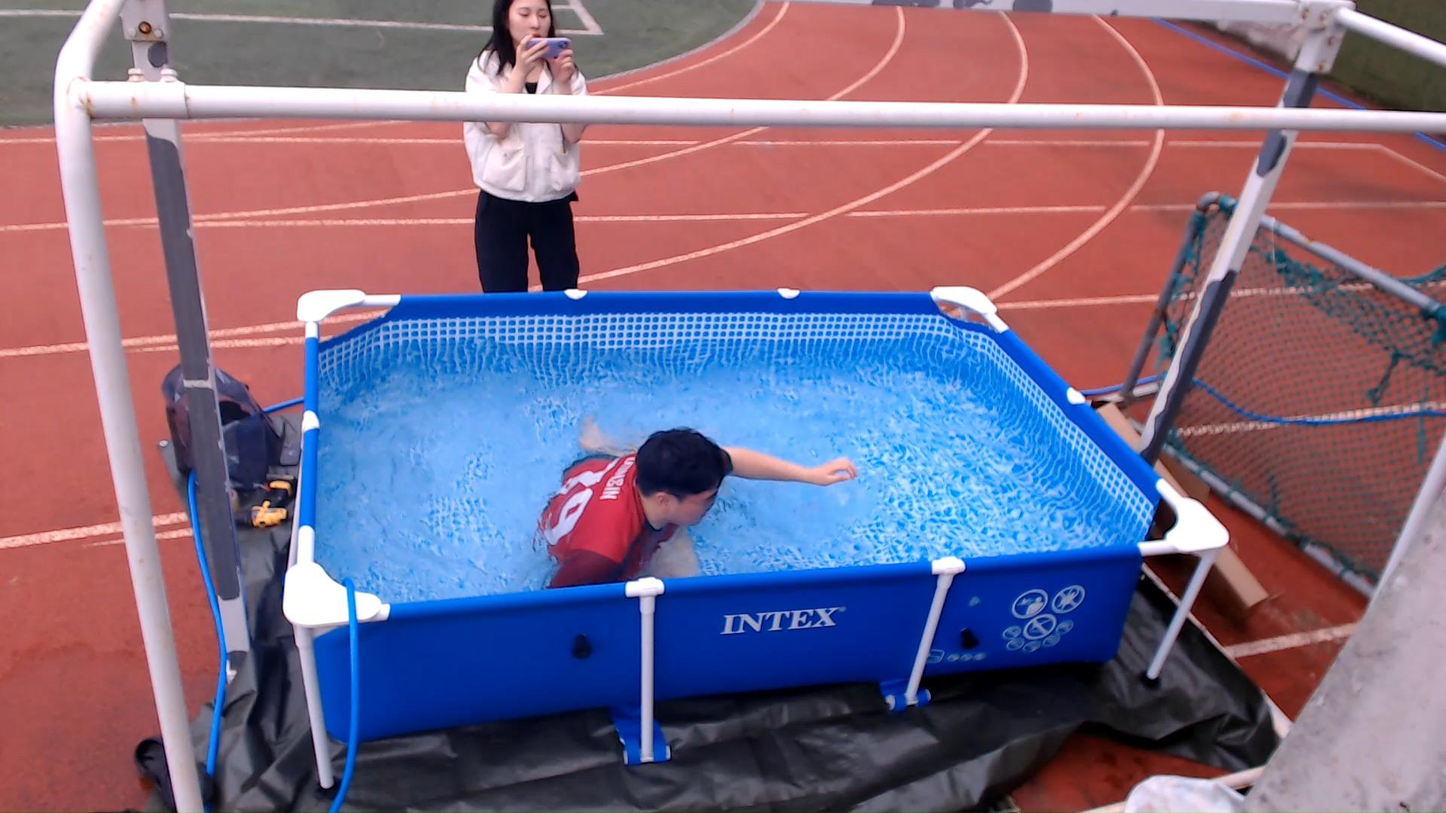Person-out-of-water: (438, 0, 684, 295)
Swimming: (467, 378, 885, 607)
